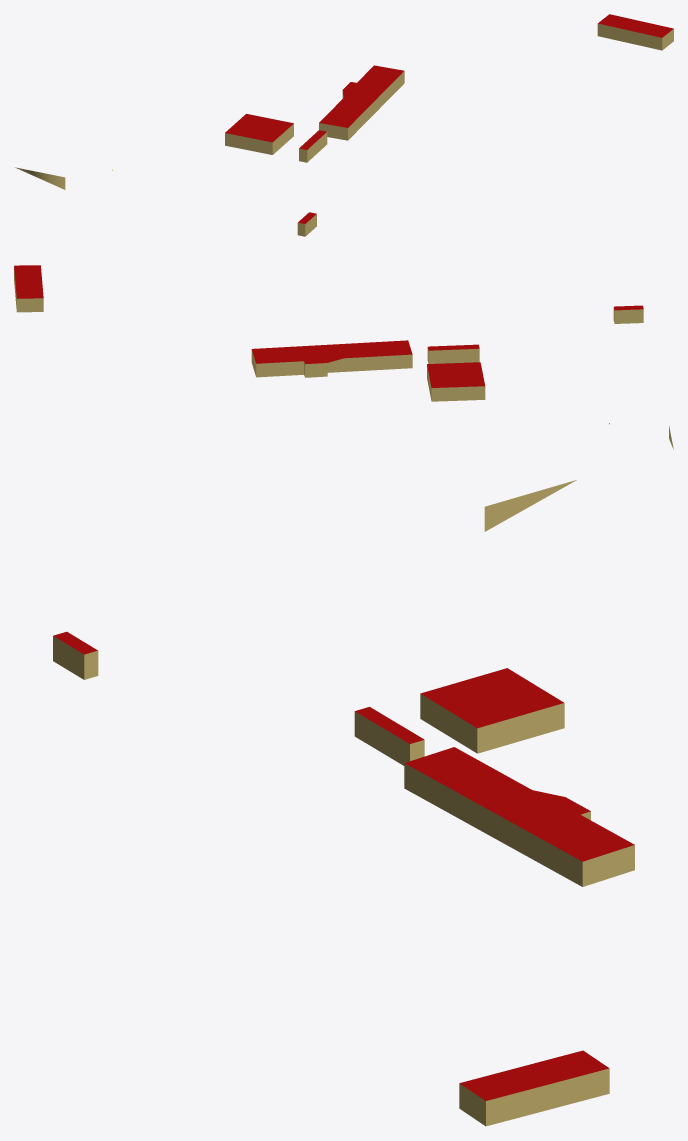
3 views of the same model, one above another, from view 1: azimuth 30°, elevation 25°; view 2: azimuth 150°, elevation 25°; view 3: azimuth 270°, elevation 25° (orthographic). The views are drawn at different scales.
Size of the model in its own units: 394 by 7.5 by 156.
